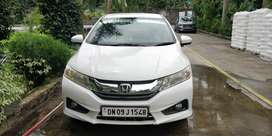DN09J1548: (102, 107, 148, 116)
